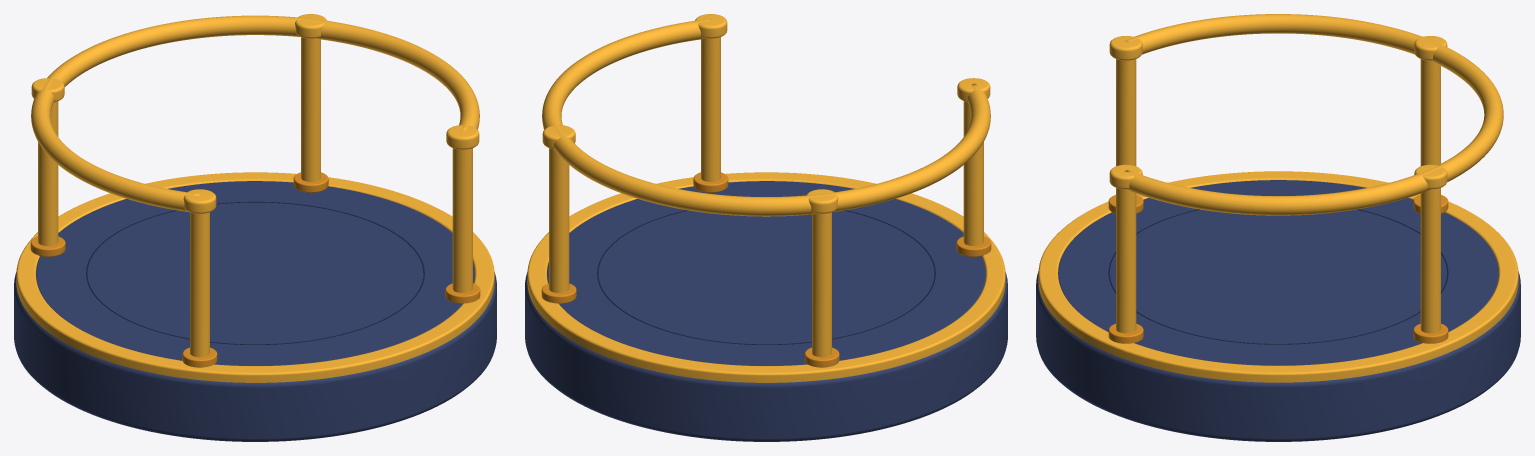
File: PlayerPlatform.glb
3 renders of one model, left to right at view 1: azimuth 30°, elevation 25°; view 2: azimuth 150°, elevation 25°; view 3: azimuth 270°, elevation 25°, orthographic.
Parts seen in each view (by area): view 1: BlueStandingSurface, BlueCircularBase, GoldTopRim, DecorativeCenterInset, ContinuousOpenEntrySafetyRail, GoldSafetyPost0, GoldSafetyPost3, GoldSafetyPost1, GoldSafetyPost2, FineStandingInsetSeam, RoundedPostCap0, RoundedPostCap3 (+6 smaller); view 2: BlueStandingSurface, BlueCircularBase, GoldTopRim, DecorativeCenterInset, ContinuousOpenEntrySafetyRail, GoldSafetyPost1, GoldSafetyPost2, GoldSafetyPost0, GoldSafetyPost3, FineStandingInsetSeam, RoundedPostCap0, RoundedPostCap2 (+6 smaller); view 3: BlueStandingSurface, BlueCircularBase, DecorativeCenterInset, ContinuousOpenEntrySafetyRail, GoldTopRim, GoldSafetyPost0, GoldSafetyPost1, GoldSafetyPost3, GoldSafetyPost2, FineStandingInsetSeam, RoundedPostCap3, RoundedPostCap0 (+4 smaller).
Part boxes in pixels (bbox=[...]): BlueStandingSurface: bbox=[36, 181, 474, 365]; BlueCircularBase: bbox=[14, 272, 496, 441]; GoldTopRim: bbox=[16, 172, 494, 382]; DecorativeCenterInset: bbox=[88, 203, 422, 343]; ContinuousOpenEntrySafetyRail: bbox=[31, 15, 479, 211]; GoldSafetyPost0: bbox=[452, 148, 472, 292]; GoldSafetyPost3: bbox=[190, 212, 209, 357]; GoldSafetyPost1: bbox=[301, 37, 320, 181]; GoldSafetyPost2: bbox=[38, 101, 58, 245]; FineStandingInsetSeam: bbox=[86, 201, 424, 344]; RoundedPostCap0: bbox=[446, 125, 479, 149]; RoundedPostCap3: bbox=[183, 189, 216, 213]; BlueStandingSurface: bbox=[547, 181, 985, 365]; BlueCircularBase: bbox=[525, 272, 1007, 441]; GoldTopRim: bbox=[527, 172, 1005, 382]; DecorativeCenterInset: bbox=[599, 211, 933, 343]; ContinuousOpenEntrySafetyRail: bbox=[542, 19, 990, 216]; GoldSafetyPost1: bbox=[549, 148, 569, 292]; GoldSafetyPost2: bbox=[812, 212, 831, 357]; GoldSafetyPost0: bbox=[701, 37, 720, 181]; GoldSafetyPost3: bbox=[963, 101, 983, 245]; FineStandingInsetSeam: bbox=[597, 210, 935, 344]; RoundedPostCap0: bbox=[695, 14, 727, 38]; RoundedPostCap2: bbox=[806, 189, 838, 213]; BlueStandingSurface: bbox=[1058, 180, 1498, 365]; BlueCircularBase: bbox=[1036, 271, 1520, 441]; DecorativeCenterInset: bbox=[1111, 210, 1445, 343]; ContinuousOpenEntrySafetyRail: bbox=[1124, 14, 1503, 215]; GoldTopRim: bbox=[1038, 171, 1518, 382]; GoldSafetyPost0: bbox=[1116, 188, 1136, 333]; GoldSafetyPost1: bbox=[1420, 188, 1440, 333]; GoldSafetyPost3: bbox=[1116, 59, 1136, 166]; GoldSafetyPost2: bbox=[1420, 59, 1440, 165]; FineStandingInsetSeam: bbox=[1108, 209, 1448, 344]; RoundedPostCap3: bbox=[1109, 36, 1142, 60]; RoundedPostCap0: bbox=[1109, 164, 1142, 189].
Size of the model in its own units: 1.44 by 0.79 by 1.44.
Materials: 7 (7 with a texture image).
